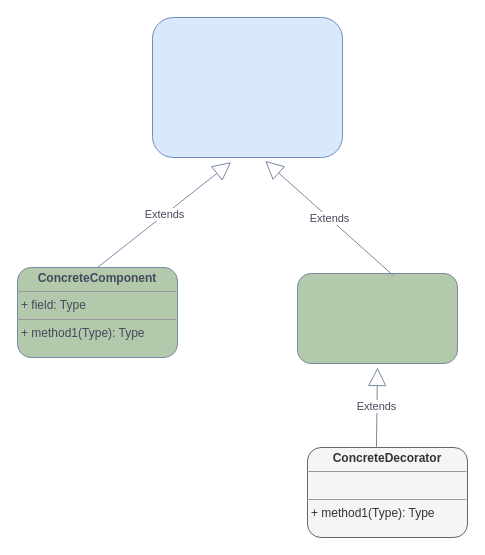
This 485x555 diagram has some shape labels left out. The shapes that lost their labels are listed below. From the top down, each one's centre as x and y in pixels, then its label:
At (247,87): "<< abstract >> Component + field1: Type + method1(Type): Type".
At (377,318): "Decorator + wrapObj: Component + method1(Type): Type".
